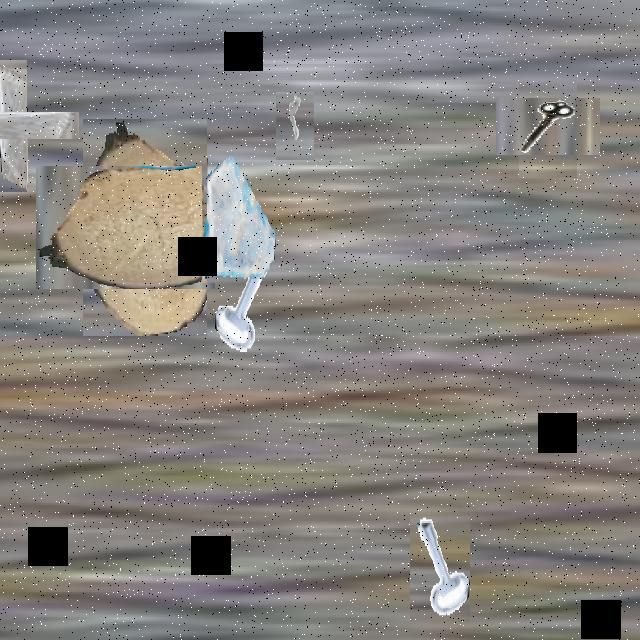glass: (202, 151, 276, 283), (0, 86, 53, 165)
metal: (215, 247, 277, 357), (508, 86, 588, 166), (410, 516, 470, 622), (276, 92, 314, 160)
wood: (60, 142, 230, 313)
